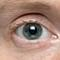eye: (22, 23, 43, 40)
